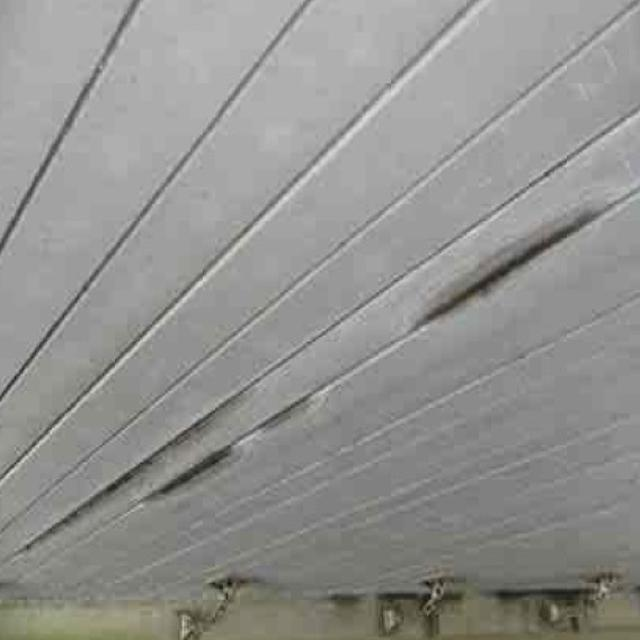leakage: (431, 179, 593, 337), (344, 561, 599, 640)
